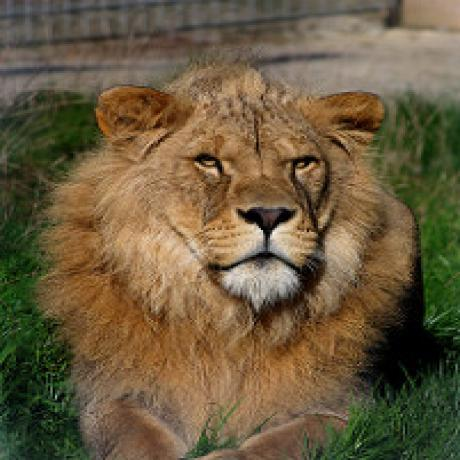Lion: (49, 60, 419, 460)
